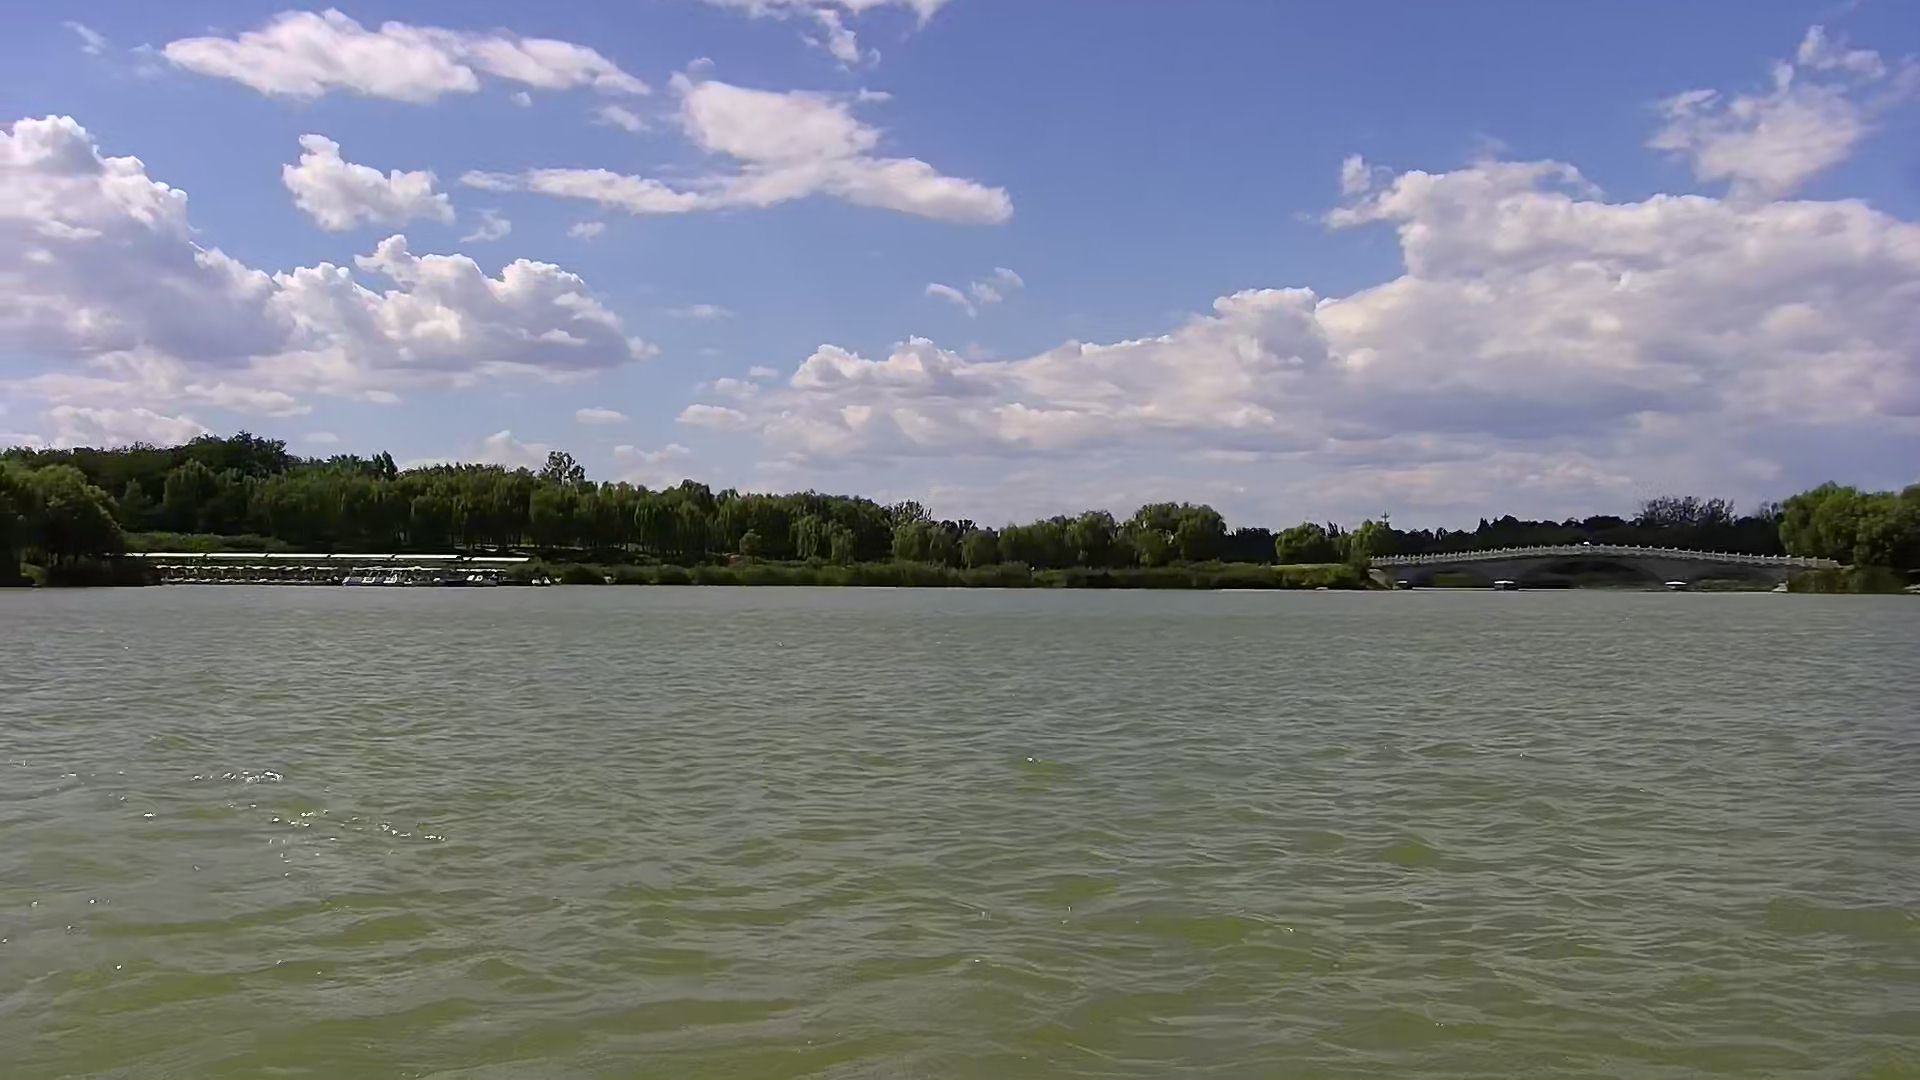bridge: (1350, 542, 1844, 589)
harbor: (129, 549, 541, 591)
